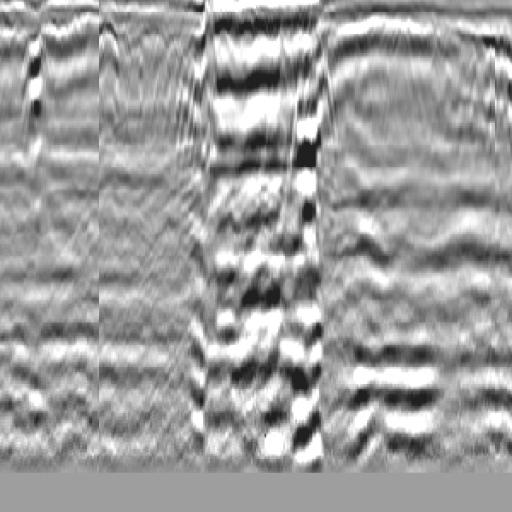non-metallic: (4, 31, 65, 154)
